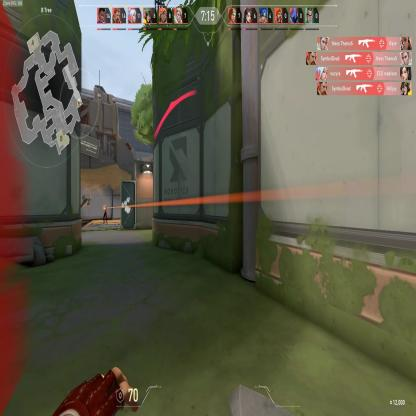enemy: (101, 202, 108, 224)
